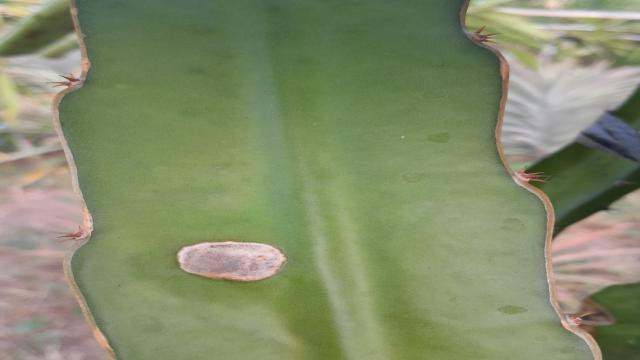stemcanker: (171, 230, 296, 290)
